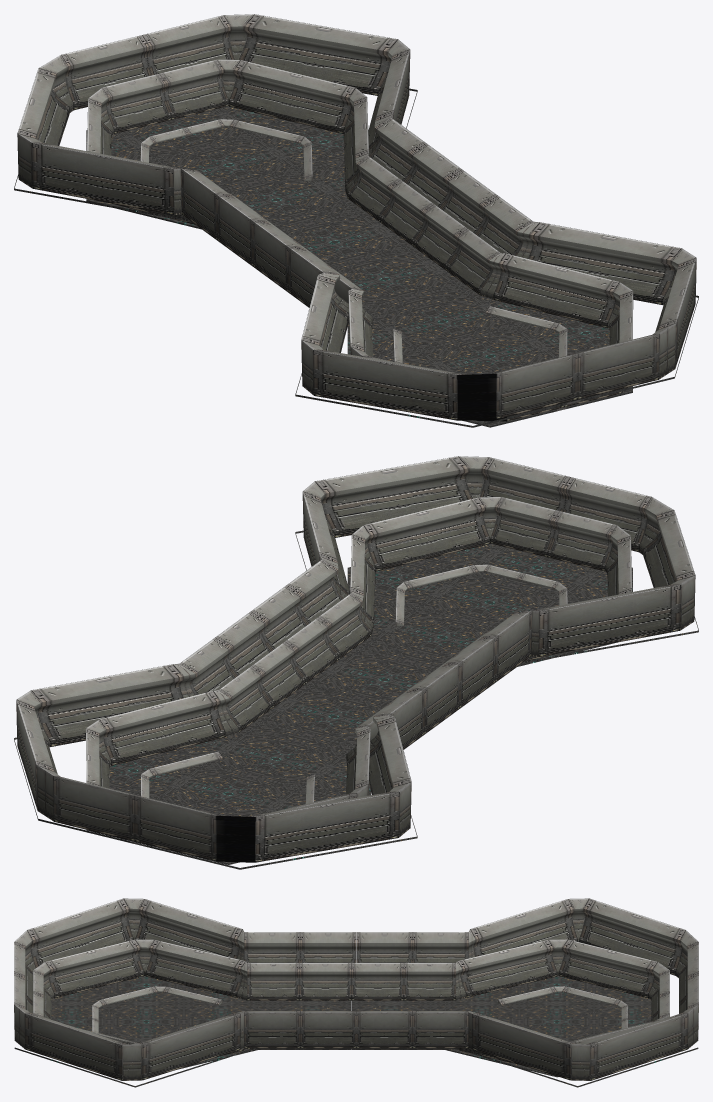
File: level_tes.FBX
3 views of the same model, one above another, from view 1: azimuth 30°, elevation 25°; view 2: azimuth 150°, elevation 25°; view 3: azimuth 270°, elevation 25° (orthographic). The views are drawn at different scales.
Parts seen in each view (by area): view 1: Line08; view 2: Line08; view 3: Line08.
Part boxes in pixels (box(x1,y1,x2,y2)): Line08: box(14, 14, 698, 427); Line08: box(14, 456, 698, 869); Line08: box(14, 898, 698, 1087).
Size of the model in its own units: 1578 by 308 by 2950.
